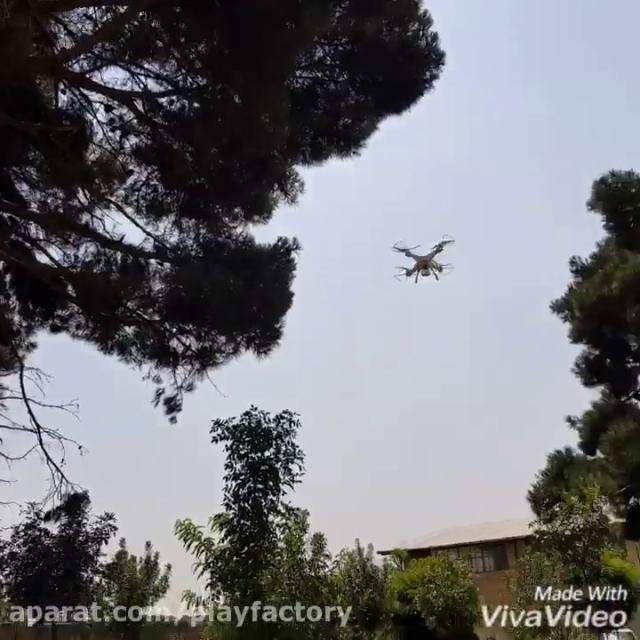drone: (388, 231, 458, 283)
